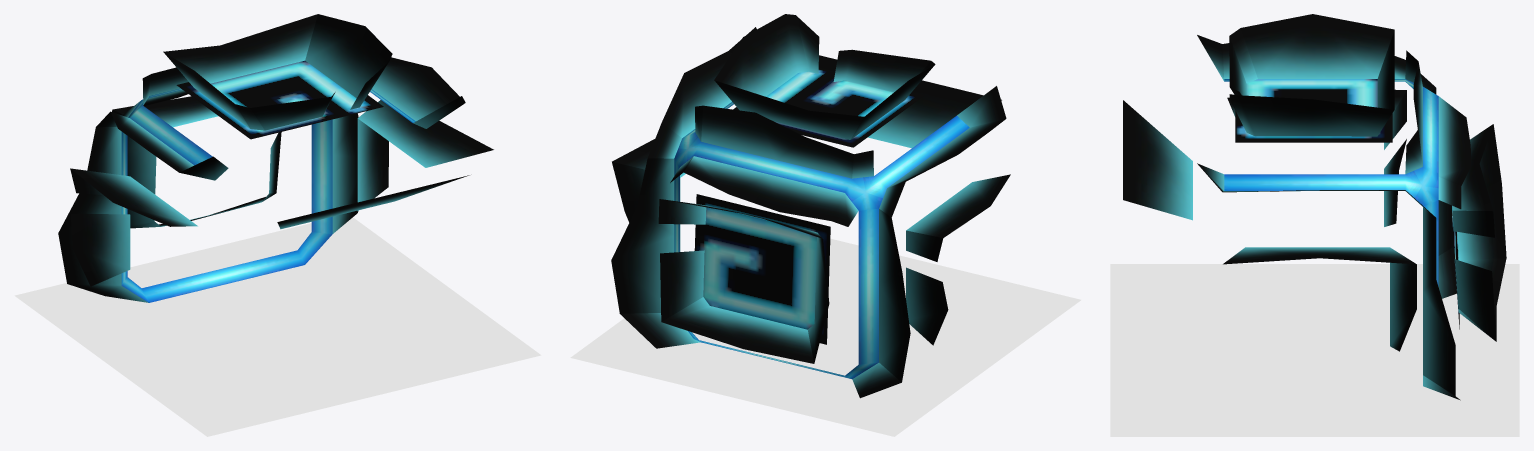
3 renders of one model, left to right at view 1: azimuth 30°, elevation 25°; view 2: azimuth 150°, elevation 25°; view 3: azimuth 270°, elevation 25°, orthographic. The views are drawn at different scales.
Parts seen in each view (by area): view 1: shadow (9), [GIMMICK]chest_box1_glow2, [GIMMICK]chest_box1_glow1; view 2: [GIMMICK]chest_box1_glow2, shadow (9), [GIMMICK]chest_box1_glow1; view 3: shadow (9), [GIMMICK]chest_box1_glow2, [GIMMICK]chest_box1_glow1.
Boxes of the visible parts, box(x1,y1,x2,y2) form: shadow (9): box(14, 217, 541, 436); [GIMMICK]chest_box1_glow2: box(58, 14, 493, 302); [GIMMICK]chest_box1_glow1: box(121, 60, 415, 302); [GIMMICK]chest_box1_glow2: box(611, 14, 1010, 398); shadow (9): box(570, 238, 1080, 436); [GIMMICK]chest_box1_glow1: box(674, 69, 969, 378); shadow (9): box(1110, 264, 1519, 436); [GIMMICK]chest_box1_glow2: box(1123, 14, 1506, 400); [GIMMICK]chest_box1_glow1: box(1224, 79, 1459, 329).
Bounding box in the file's own units: 1.46 × 1.15 × 1.44.
Materials: 2 (2 with a texture image).
